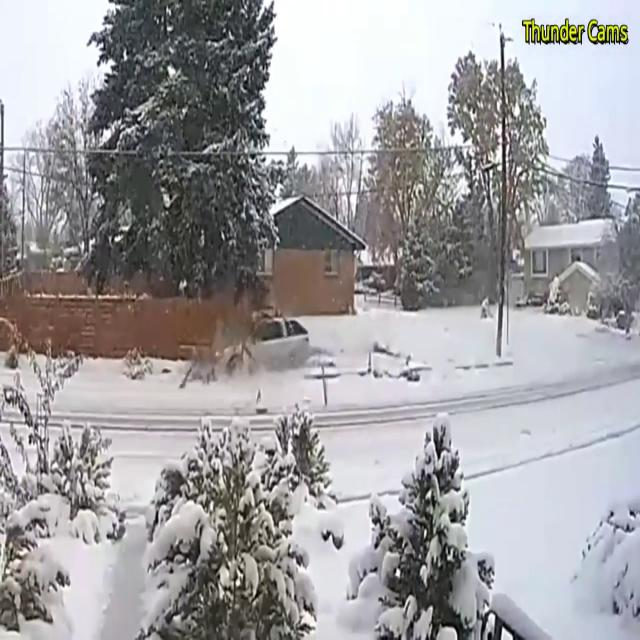accident: (213, 302, 320, 379)
